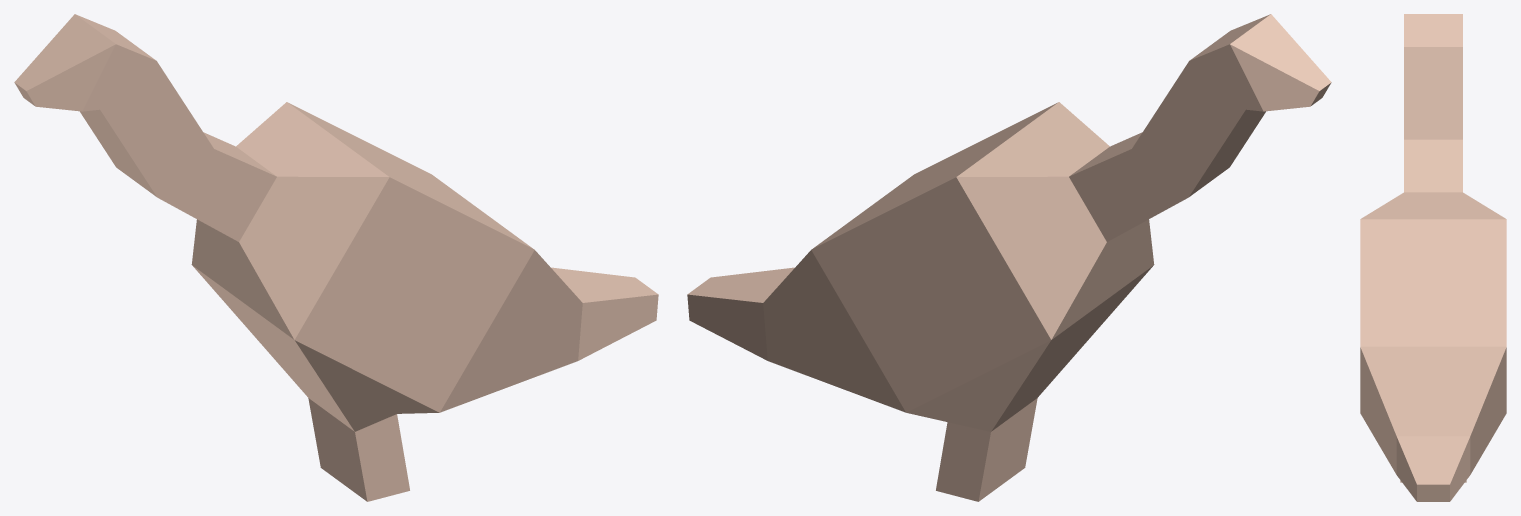
Rendered from swan_block.fbx.
3 views of the same model, side by side, from view 1: azimuth 30°, elevation 25°; view 2: azimuth 150°, elevation 25°; view 3: azimuth 270°, elevation 25° (orthographic). The views are drawn at different scales.
Parts seen in each view (by area): view 1: swan; view 2: swan; view 3: swan.
Part boxes in pixels (x1,y1,x2,y2): swan: [14, 14, 658, 501]; swan: [687, 14, 1331, 501]; swan: [1360, 14, 1506, 501].
Size of the model in its own units: 81.7 by 64.34 by 23.22.
